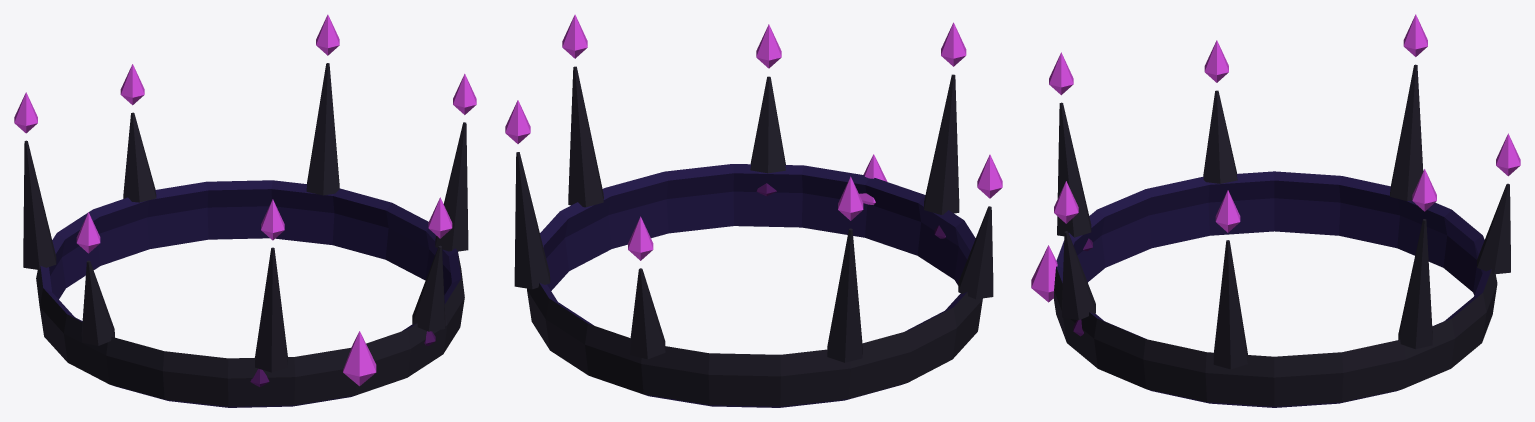
File: ender_crown.obj
The picture shows the model from 3 angles, left to right: view 1: azimuth 30°, elevation 25°; view 2: azimuth 150°, elevation 25°; view 3: azimuth 270°, elevation 25°; orthographic projection. The views are drawn at different scales.
Parts seen in each view (by area): view 1: ender_crown; view 2: ender_crown; view 3: ender_crown.
Part boxes in pixels (x1,y1,x2,y2): ender_crown: (14,14,476,407); ender_crown: (505,14,1002,407); ender_crown: (1031,14,1520,407).
Bounding box in the file's own units: 10.25 × 5.3 × 10.35.
